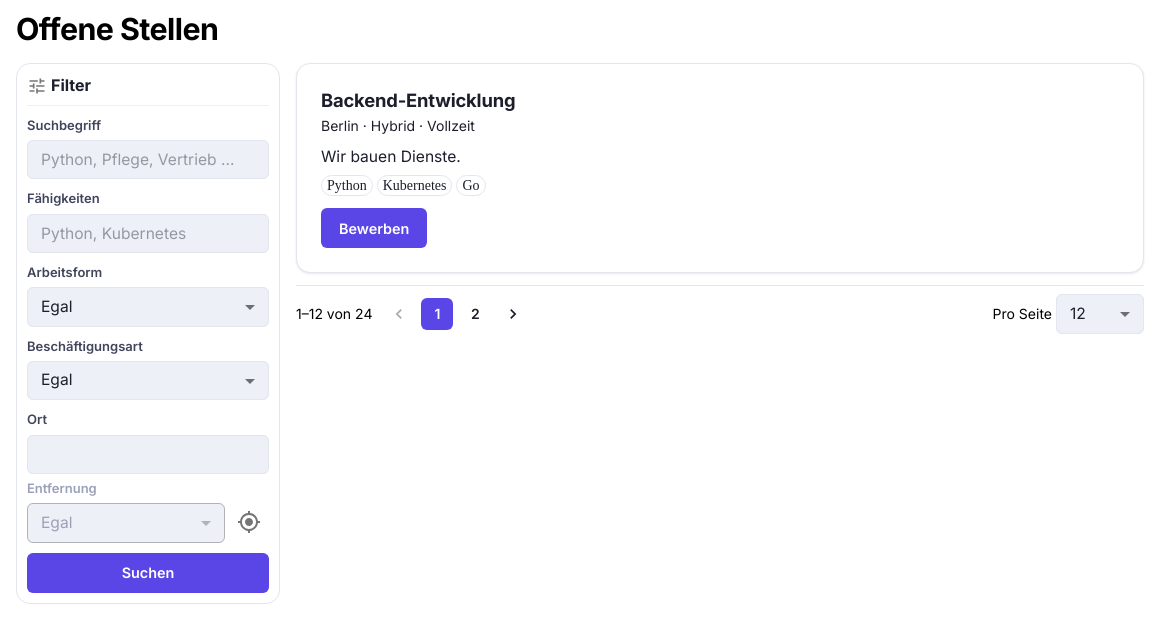
Test: JobsPage › springt auf die zweite Seite und ersetzt die erste
Expected: the heading "Backend-Entwicklung" is shown, top-left (321, 90), bottom-right (515, 112)
Click the button named "Seite 2".
click(475, 314)  # box top-left (459, 298), bottom-right (491, 330)
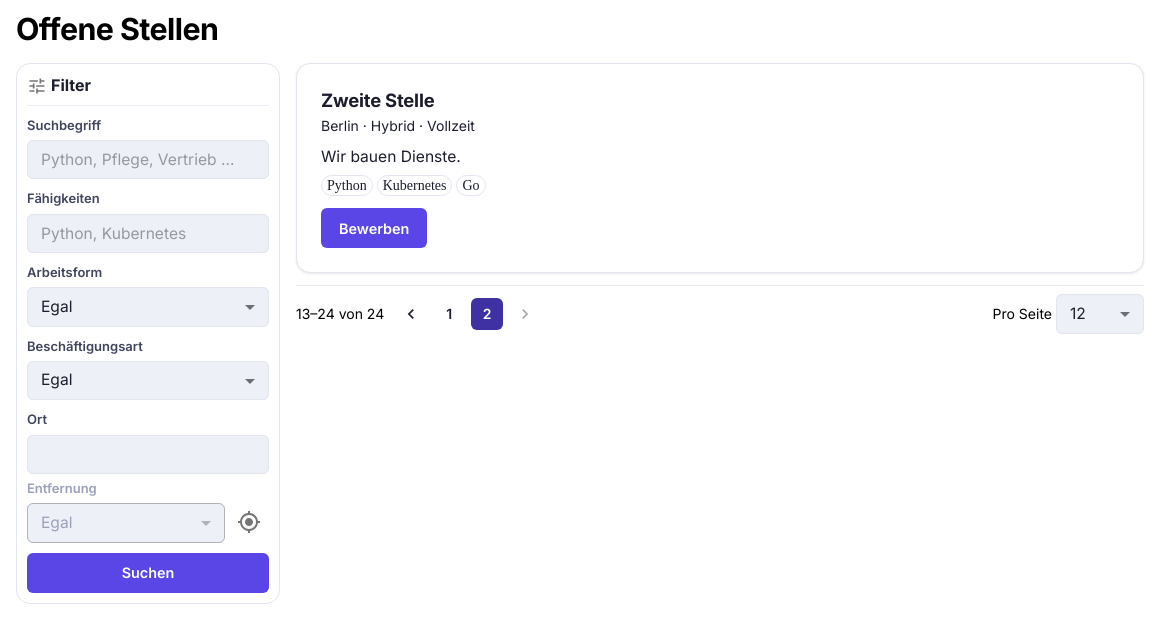
Expected: the heading "Zweite Stelle" is shown, top-left (321, 90), bottom-right (434, 112)
Expected: the heading "Backend-Entwicklung" is gone
